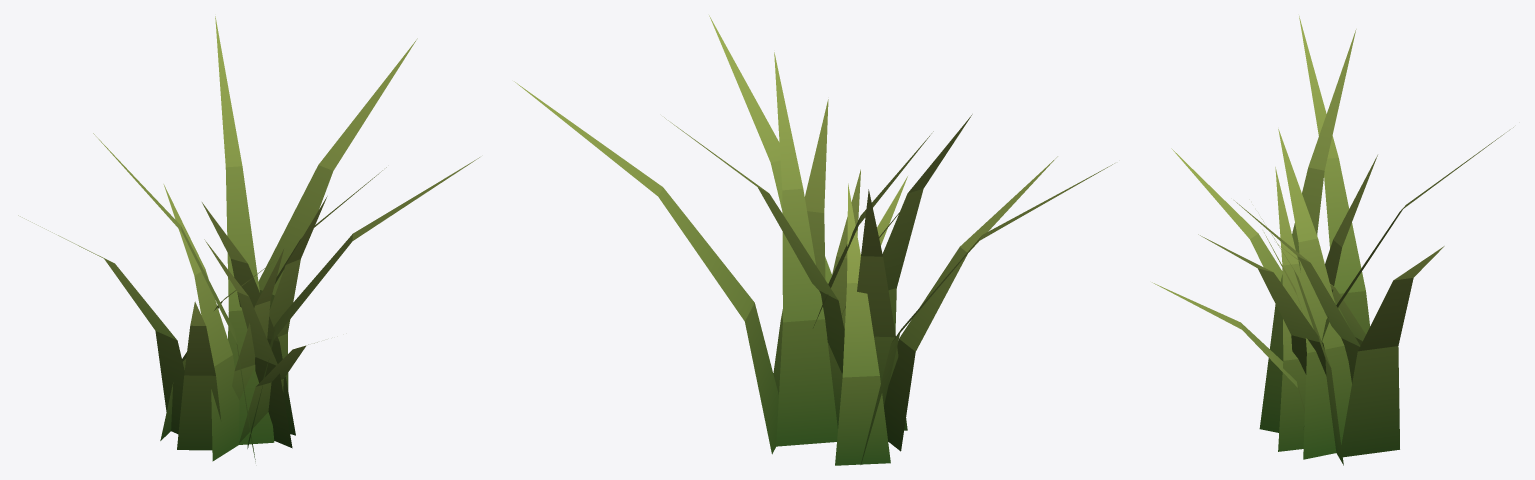
The model's file is tall.glb.
3 renders of one model, left to right at view 1: azimuth 30°, elevation 25°; view 2: azimuth 150°, elevation 25°; view 3: azimuth 270°, elevation 25°, orthographic. The views are drawn at different scales.
Visible parts, largest first — view 1: grass_tall_leaf; view 2: grass_tall_leaf; view 3: grass_tall_leaf.
Part boxes in pixels (bbox=[...]): grass_tall_leaf: bbox=[18, 16, 479, 461]; grass_tall_leaf: bbox=[514, 15, 1114, 465]; grass_tall_leaf: bbox=[1152, 16, 1513, 465].
Bounding box in the file's own units: 1.38 × 0.9401 × 0.9035.
